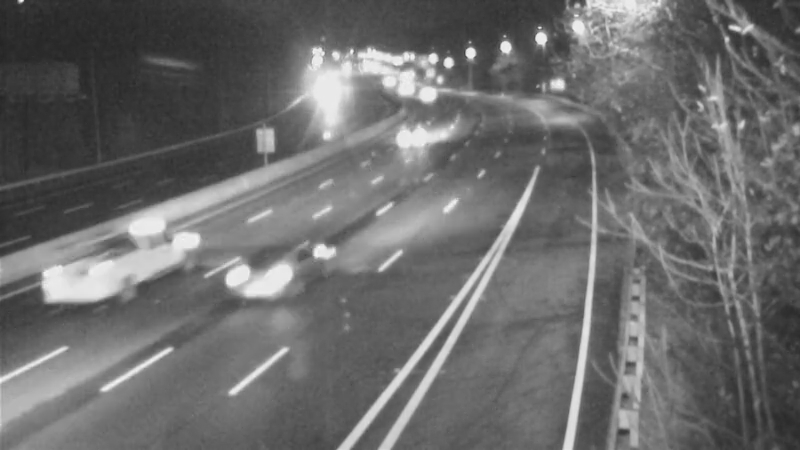vehicle: (225, 242, 305, 322), (81, 218, 161, 298), (361, 57, 411, 107), (380, 62, 430, 112), (399, 68, 449, 118), (385, 111, 435, 161)
